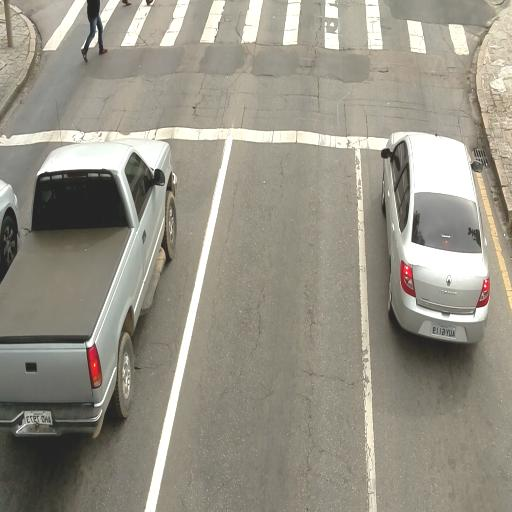car: (3, 133, 184, 445), (380, 129, 491, 342), (0, 173, 20, 283)
